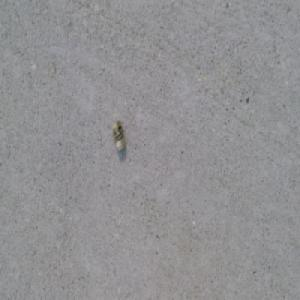BoltNutSet: (111, 121, 126, 153)
